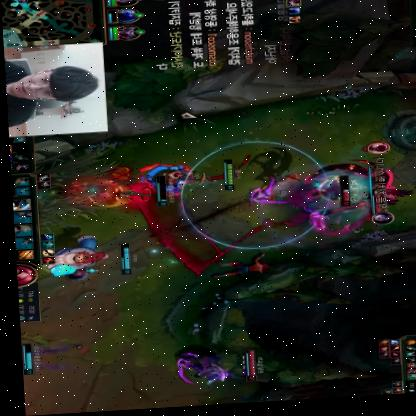streamer: (2, 44, 100, 136)
